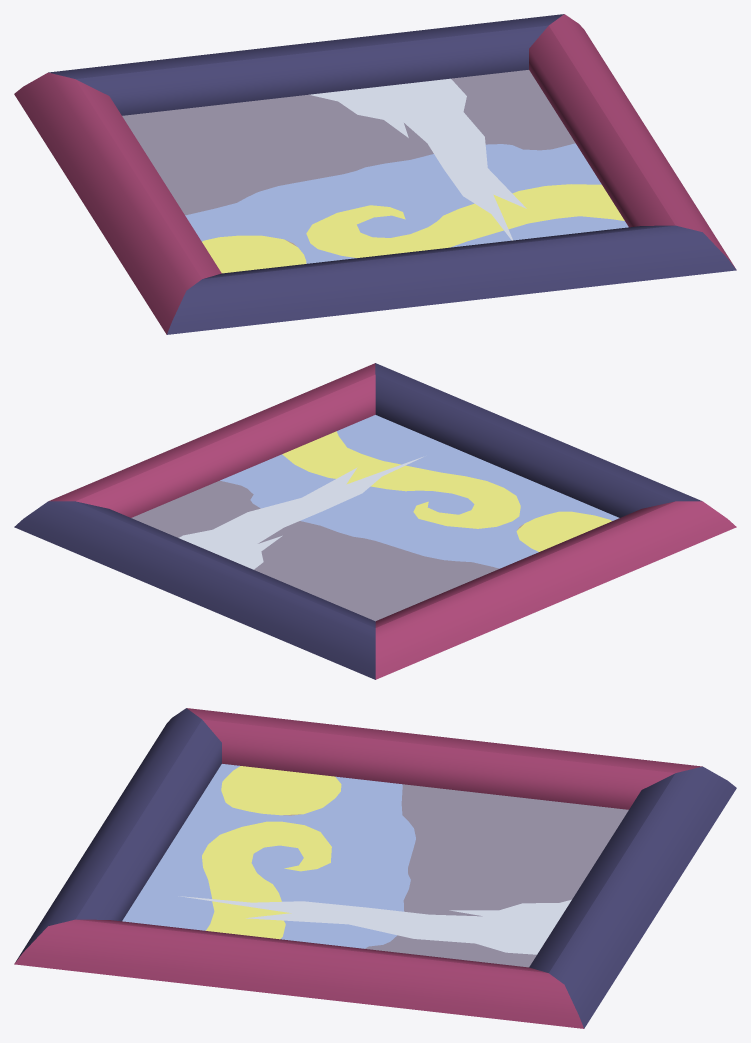
Rendered from FramedPhoto.fbx.
3 views of the same model, one above another, from view 1: azimuth 30°, elevation 25°; view 2: azimuth 150°, elevation 25°; view 3: azimuth 270°, elevation 25° (orthographic). The views are drawn at different scales.
Visible parts, largest first — view 1: ArtWork1; view 2: ArtWork1; view 3: ArtWork1.
Boxes of the visible parts, x1,y1,x2,y2 form: ArtWork1: [14, 14, 736, 334]; ArtWork1: [14, 363, 736, 679]; ArtWork1: [14, 708, 736, 1028].
Size of the model in its own units: 31.7 by 1.44 by 31.7.
